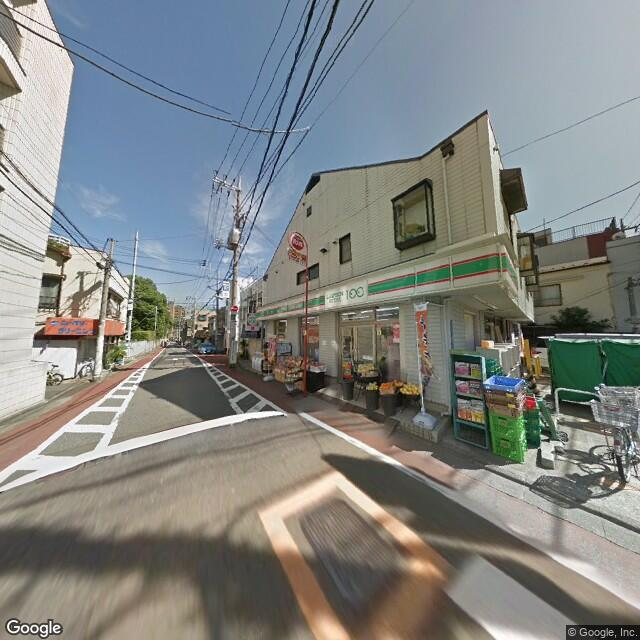lawson: (256, 242, 518, 323), (322, 279, 371, 309)
